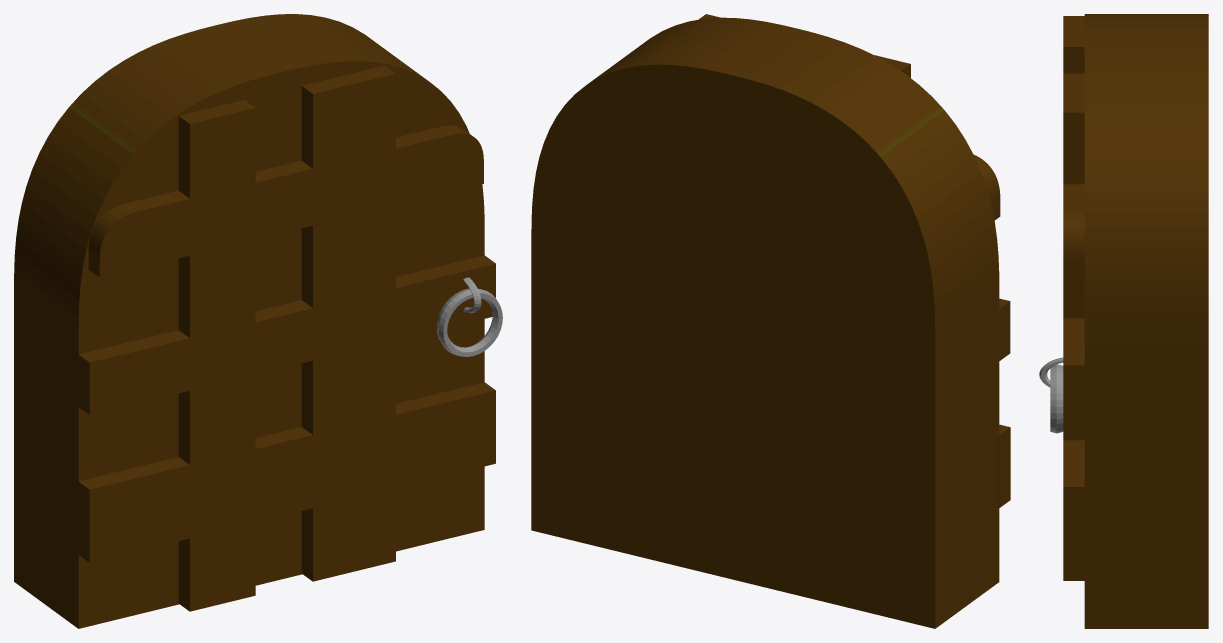
File: door.fbx
The picture shows the model from 3 angles, left to right: view 1: azimuth 30°, elevation 25°; view 2: azimuth 150°, elevation 25°; view 3: azimuth 270°, elevation 25°; orthographic projection. The views are drawn at different scales.
Parts seen in each view (by area): view 1: Cube; view 2: Cube; view 3: Cube.
Part boxes in pixels (x1=…): Cube: x1=14, y1=14, x2=502, y2=628; Cube: x1=531, y1=14, x2=1010, y2=628; Cube: x1=1039, y1=14, x2=1208, y2=628.
Size of the model in its own units: 184 by 219 by 68.88.
3 materials, 3 textured.
